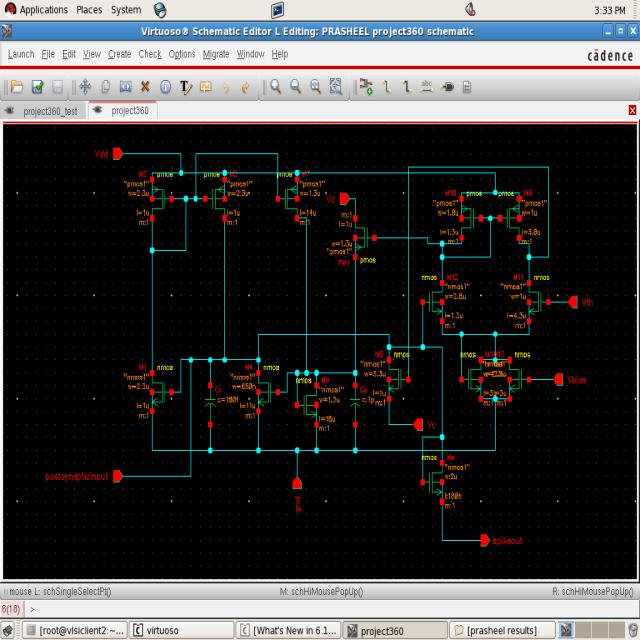cap: (347, 382, 362, 428), (203, 382, 217, 428)
nmos: (418, 273, 446, 328), (506, 350, 532, 406), (418, 455, 447, 505), (256, 365, 284, 416), (456, 352, 484, 403), (386, 350, 413, 401), (149, 365, 174, 416), (295, 378, 320, 429), (526, 274, 551, 324)
pmos: (352, 214, 379, 268), (202, 171, 228, 225), (274, 172, 300, 226), (496, 191, 523, 243), (458, 190, 483, 240), (150, 173, 174, 225)
